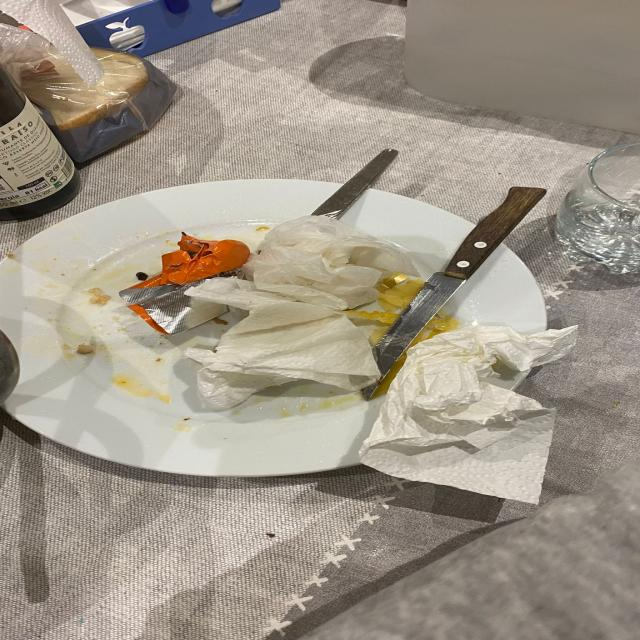cup: (556, 141, 639, 272)
fork: (312, 149, 398, 219)
garbage: (185, 216, 419, 409), (359, 325, 576, 503), (119, 232, 250, 335)
knife: (362, 187, 546, 399)
plate: (0, 180, 576, 477)
